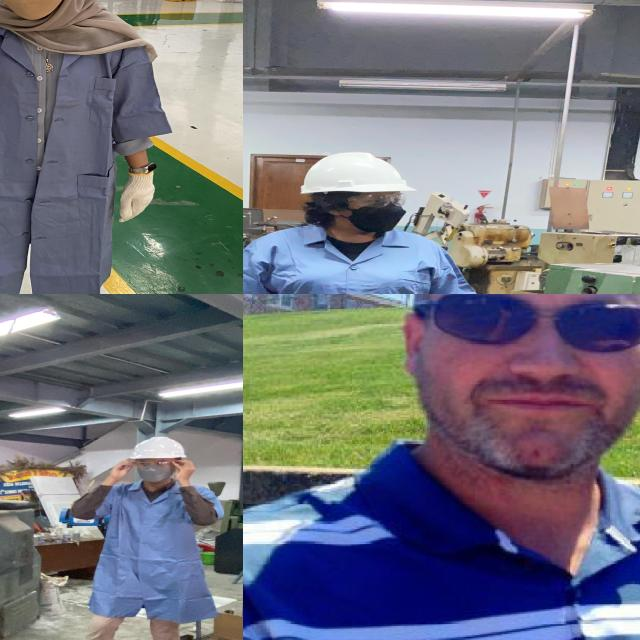face_mask: (335, 188, 412, 233), (0, 0, 65, 25), (131, 456, 177, 484)
face_nomask: (440, 294, 637, 455)
glasses: (407, 294, 640, 347), (340, 191, 410, 209), (127, 458, 181, 471)
hand_glove: (113, 170, 162, 220)
hand_noglove: (104, 459, 144, 480), (165, 458, 198, 478)
head_helmet: (294, 148, 416, 195), (128, 434, 190, 460)
person: (243, 294, 640, 640), (0, 0, 180, 294), (243, 152, 525, 294), (59, 431, 214, 640)
